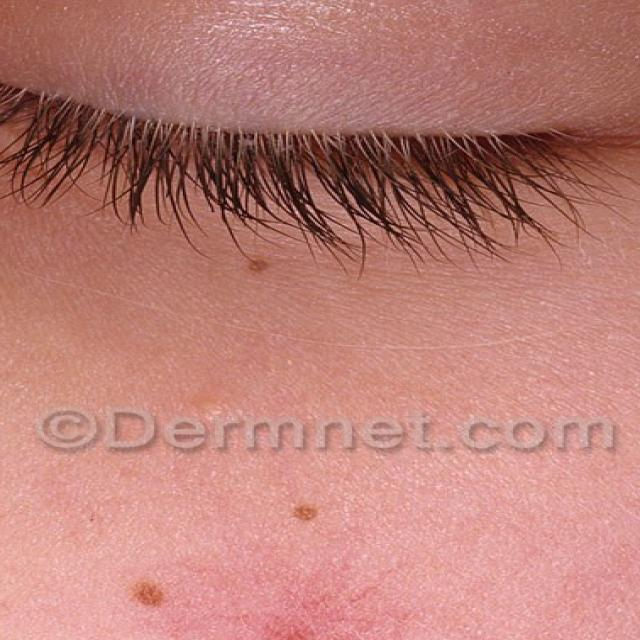Vascular Tumors: (85, 550, 450, 640), (261, 470, 366, 553), (200, 240, 332, 292)
